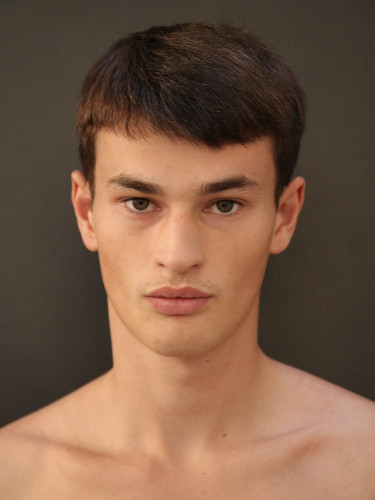bare: (91, 224, 269, 355)
